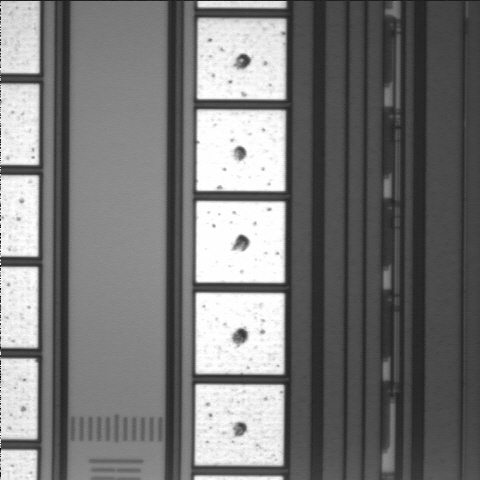pad: (197, 18, 286, 100), (196, 201, 285, 283), (195, 384, 284, 466), (196, 110, 286, 191), (196, 293, 285, 374)
